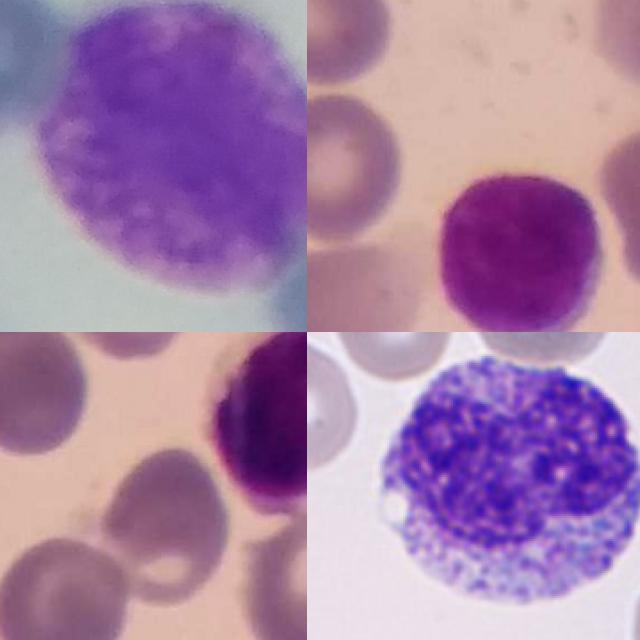Basophil: (36, 0, 307, 300)
Lymphocyte: (360, 345, 640, 627), (436, 166, 605, 332), (204, 332, 307, 522)
RBC: (307, 332, 365, 478), (326, 332, 460, 384), (465, 332, 620, 368)
